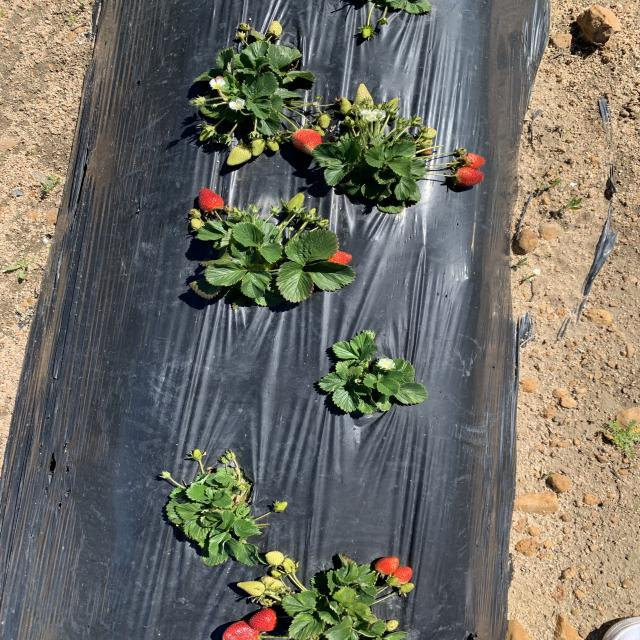unripe: (218, 616, 269, 640), (448, 167, 486, 192), (292, 128, 325, 156), (196, 185, 224, 213), (370, 554, 404, 576), (250, 609, 284, 631), (320, 246, 354, 266), (389, 566, 415, 586), (461, 153, 485, 169)
